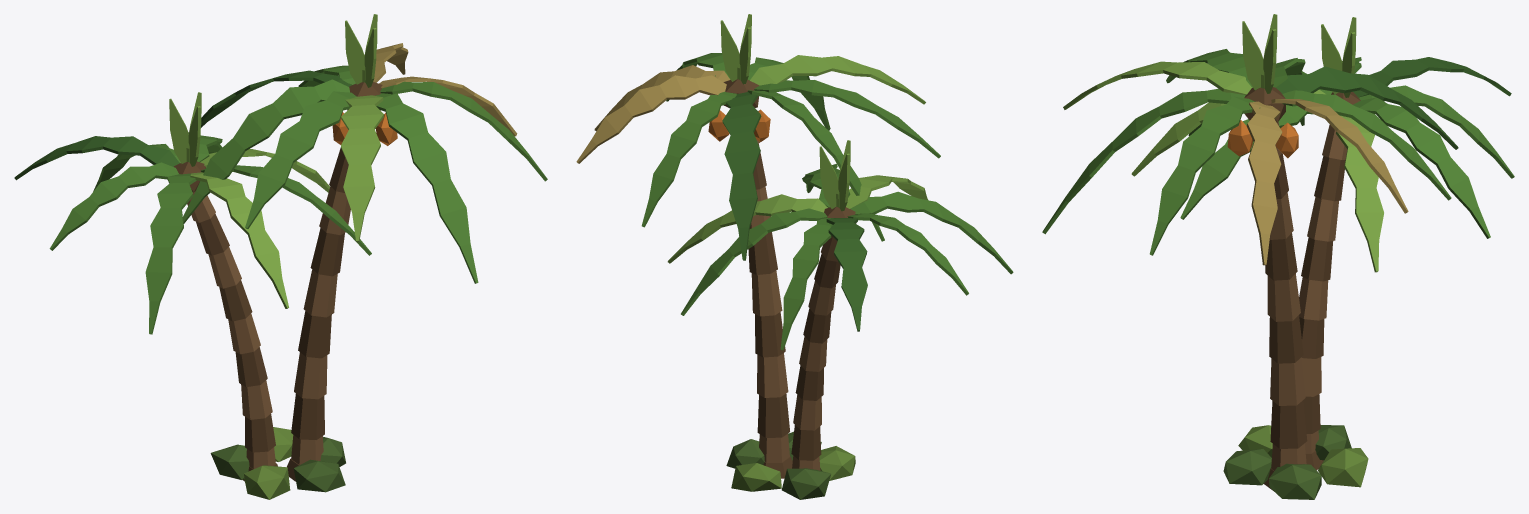
File: desert_palm_b.glb
The picture shows the model from 3 angles, left to right: view 1: azimuth 30°, elevation 25°; view 2: azimuth 150°, elevation 25°; view 3: azimuth 270°, elevation 25°; orthographic projection. The views are drawn at different scales.
Parts seen in each view (by area): view 1: desert_palm_b; view 2: desert_palm_b; view 3: desert_palm_b.
Boxes of the visible parts, x1,y1,x2,y2 form: desert_palm_b: [14, 14, 547, 499]; desert_palm_b: [576, 14, 1013, 499]; desert_palm_b: [1042, 14, 1514, 499].
Size of the model in its own units: 7.6 by 7.6 by 6.68.
